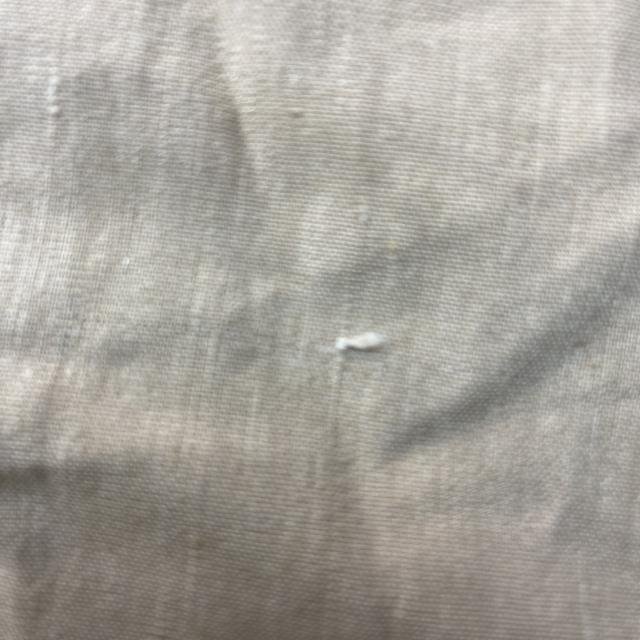pulled_or_thick_thread: (320, 315, 405, 413), (42, 52, 78, 173)
